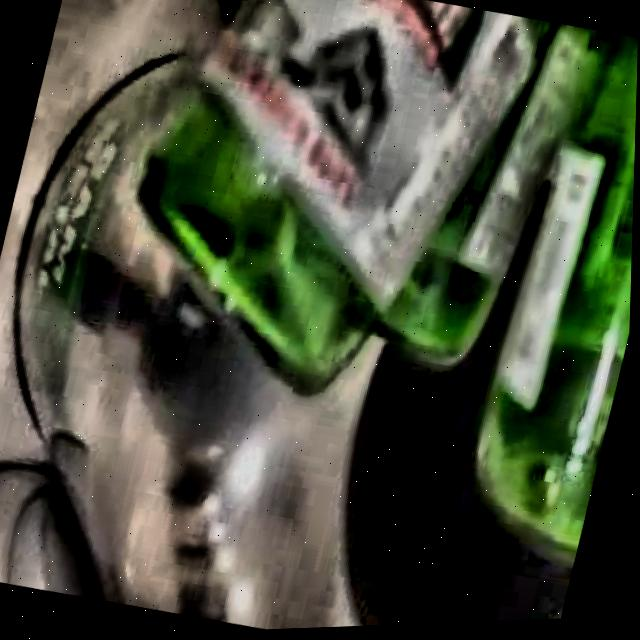glass: (145, 0, 639, 564)
